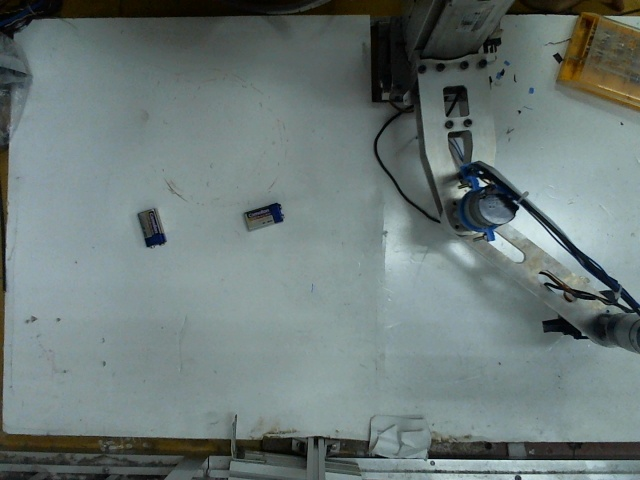battery: (133, 205, 167, 248), (240, 198, 284, 231)
